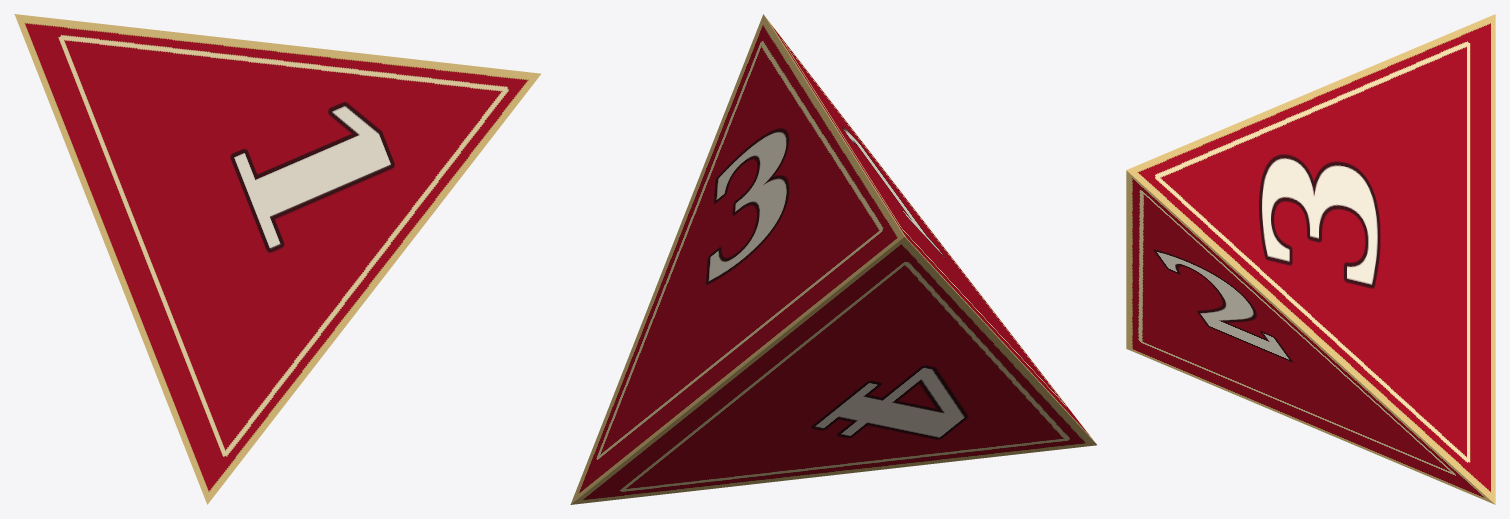
File: ruby_d4.glb
3 renders of one model, left to right at view 1: azimuth 30°, elevation 25°; view 2: azimuth 150°, elevation 25°; view 3: azimuth 270°, elevation 25°, orthographic. The views are drawn at different scales.
Visible parts, largest first — view 1: world; view 2: world; view 3: world.
Boxes of the visible parts, x1,y1,x2,y2 form: world: (14, 14, 540, 504); world: (570, 14, 1096, 504); world: (1126, 14, 1495, 504).
Size of the model in its own units: 2 by 2 by 2.
1 material, 1 textured.
